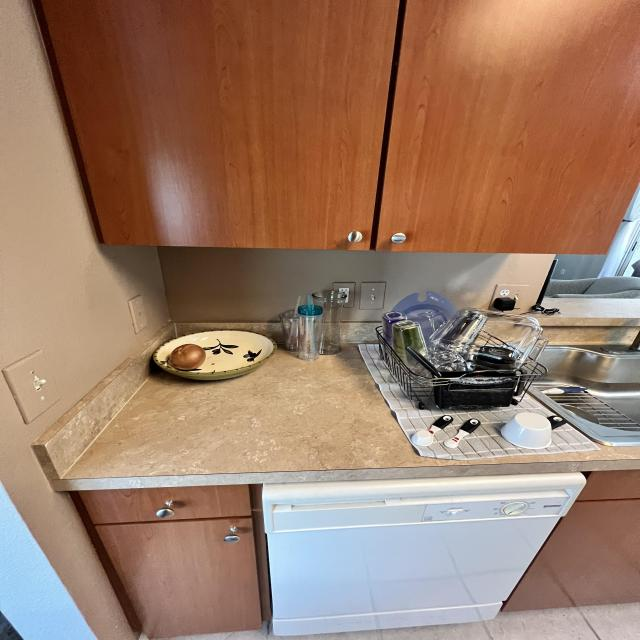Appliance_Dishwasher: (256, 471, 589, 640)
Appliance_Sink: (527, 319, 640, 440)
Cabinet_Flat: (34, 0, 640, 255), (77, 487, 266, 640), (502, 472, 640, 614)
Countertop_Laminate: (33, 346, 640, 492)
